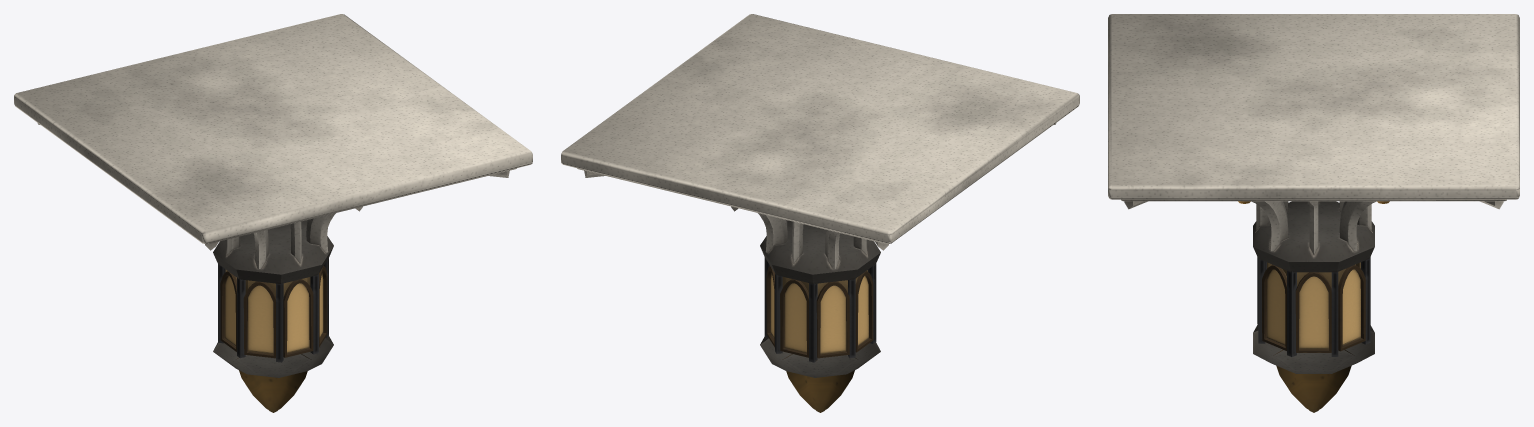
Rendered from VaultBossLight.fbx.
3 renders of one model, left to right at view 1: azimuth 30°, elevation 25°; view 2: azimuth 150°, elevation 25°; view 3: azimuth 270°, elevation 25°, orthographic. The views are drawn at different scales.
Parts seen in each view (by area): view 1: VaultBossLight_Main, VaultBossLight_Glow; view 2: VaultBossLight_Main, VaultBossLight_Glow; view 3: VaultBossLight_Main, VaultBossLight_Glow.
Part boxes in pixels (x1,y1,x2,y2): VaultBossLight_Main: (14,14,532,412); VaultBossLight_Glow: (225,269,323,354); VaultBossLight_Main: (561,14,1079,412); VaultBossLight_Glow: (770,270,868,354); VaultBossLight_Main: (1108,14,1519,412); VaultBossLight_Glow: (1267,262,1360,348).
Bounding box in the file's own units: 300 × 252 × 300.
